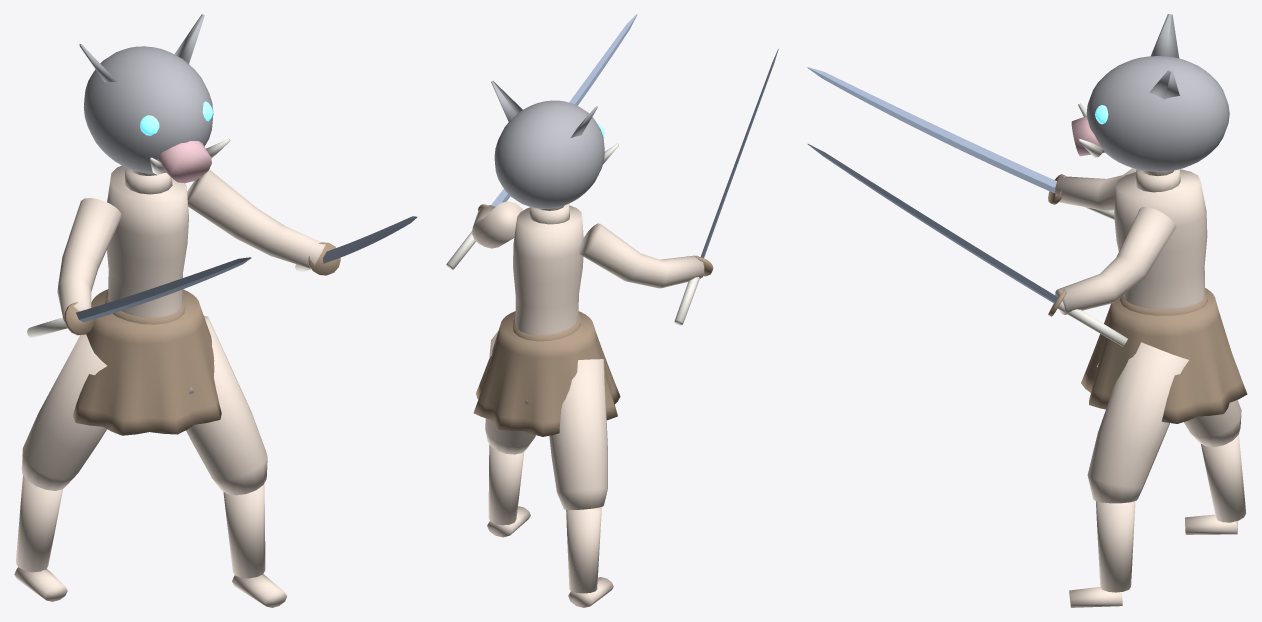
Rendered from inosuke.glb.
The picture shows the model from 3 angles, left to right: view 1: azimuth 30°, elevation 25°; view 2: azimuth 150°, elevation 25°; view 3: azimuth 270°, elevation 25°; orthographic projection. The views are drawn at different scales.
Visible parts, largest first — view 1: FurWrap, BoarHead, Torso, LegL_P, LegR_P, ArmR, ArmL, LegR_W, LegL_W, BladeL_blade, Snout, FootR (+6 smaller); view 2: FurWrap, BoarHead, Torso, LegL_P, ArmL, LegL_W, LegR_W, ArmR, LegR_P, BladeR_blade, BladeL_blade, FootL (+5 smaller); view 3: BoarHead, FurWrap, LegR_P, Torso, ArmR, LegR_W, BladeL_blade, LegL_W, BladeR_blade, ArmL, LegL_P, FootR (+6 smaller).
Part boxes in pixels (<box>): FurWrap: <box>73,289,221,435</box>; BoarHead: <box>83,46,213,173</box>; Torso: <box>107,165,188,317</box>; LegL_P: <box>21,334,106,490</box>; LegR_P: <box>186,316,267,495</box>; ArmR: <box>187,169,325,268</box>; ArmL: <box>57,198,121,323</box>; LegR_W: <box>223,483,265,578</box>; LegL_W: <box>15,475,62,572</box>; BladeL_blade: <box>76,257,251,322</box>; Snout: <box>157,141,211,183</box>; FootR: <box>232,574,286,607</box>; FurWrap: <box>473,311,620,436</box>; BoarHead: <box>494,100,604,208</box>; Torso: <box>513,205,583,335</box>; LegL_P: <box>549,359,607,509</box>; ArmL: <box>578,223,704,288</box>; LegL_W: <box>566,507,601,593</box>; LegR_W: <box>488,444,524,525</box>; ArmR: <box>472,201,523,248</box>; LegR_P: <box>485,331,535,454</box>; BladeR_blade: <box>491,14,637,206</box>; BladeL_blade: <box>700,49,778,257</box>; FootL: <box>568,577,613,607</box>; BoarHead: <box>1086,56,1229,171</box>; FurWrap: <box>1081,288,1247,423</box>; LegR_P: <box>1087,342,1188,503</box>; Torso: <box>1114,169,1207,309</box>; ArmR: <box>1055,207,1176,314</box>; LegR_W: <box>1096,501,1135,592</box>; BladeL_blade: <box>807,67,1056,193</box>; LegL_W: <box>1201,434,1246,522</box>; BladeR_blade: <box>807,144,1058,303</box>; ArmL: <box>1055,168,1136,210</box>; LegL_P: <box>1184,400,1241,446</box>; FootR: <box>1069,587,1122,607</box>.
Bounding box in the file's own units: 0.9978 × 1.92 × 1.45.
